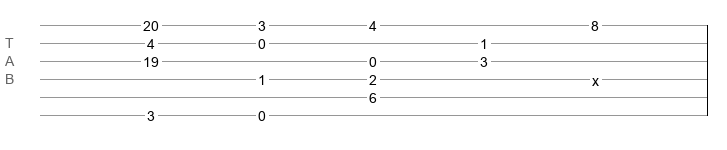0: (258, 36, 266, 46), (258, 108, 266, 118), (369, 54, 377, 64)
1: (258, 72, 266, 82), (480, 36, 488, 46)
19: (143, 54, 159, 64)
2: (369, 72, 377, 82)
20: (143, 18, 159, 28)
3: (147, 108, 155, 118), (258, 18, 266, 28), (480, 54, 488, 64)
4: (147, 36, 155, 46), (369, 18, 377, 28)
6: (369, 90, 377, 100)
8: (591, 18, 599, 28)
x: (592, 73, 599, 81)
